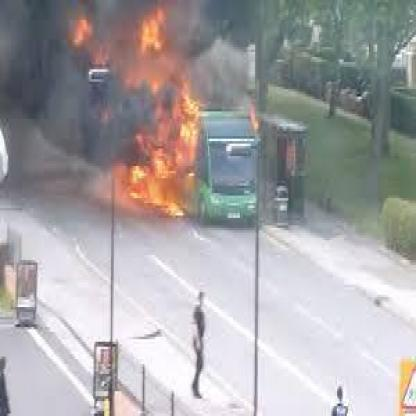fire: (63, 7, 224, 225)
smoke: (1, 5, 92, 153), (195, 10, 257, 96)
